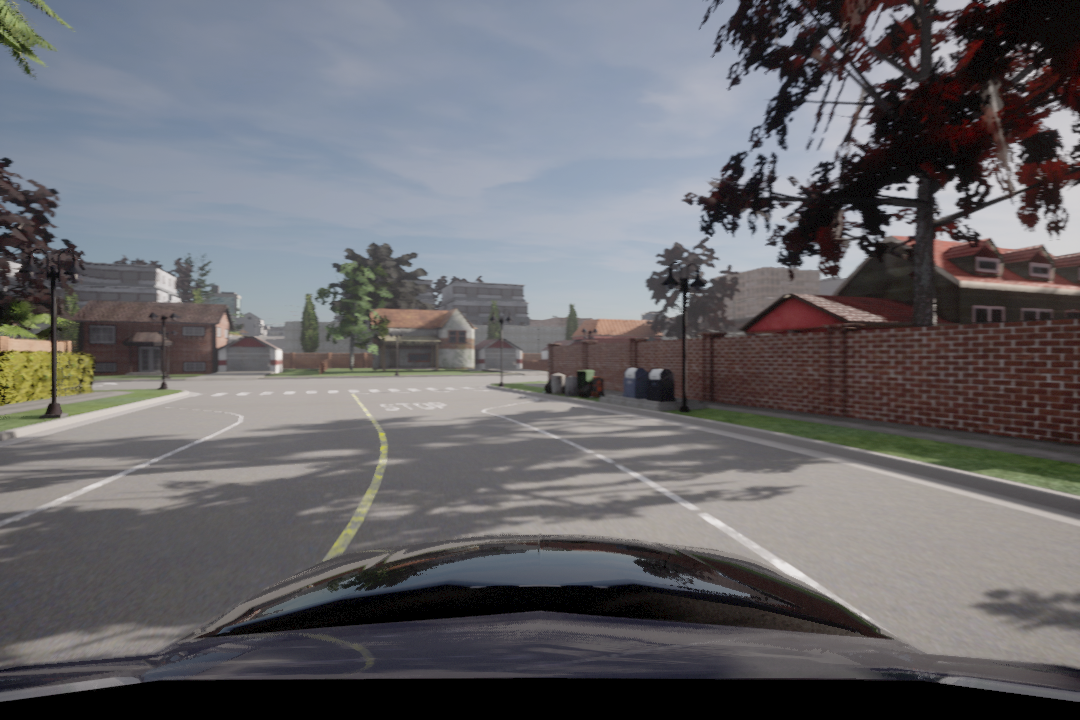walkside: (193, 384, 507, 397)
